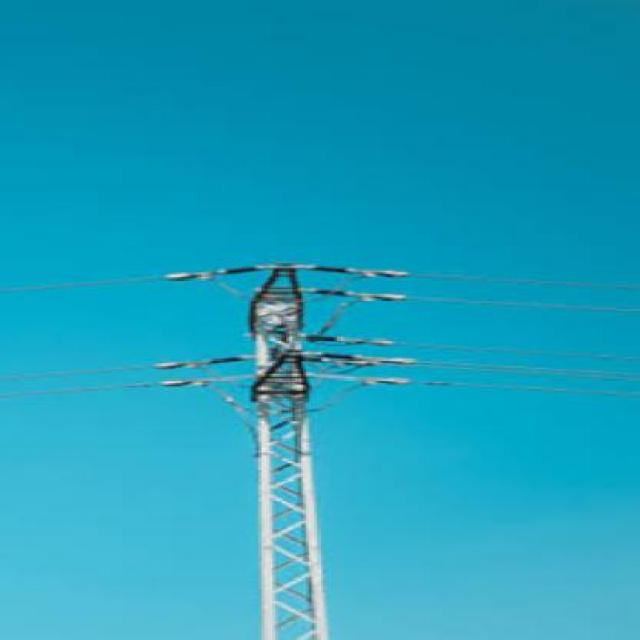pole: (169, 223, 445, 640)
